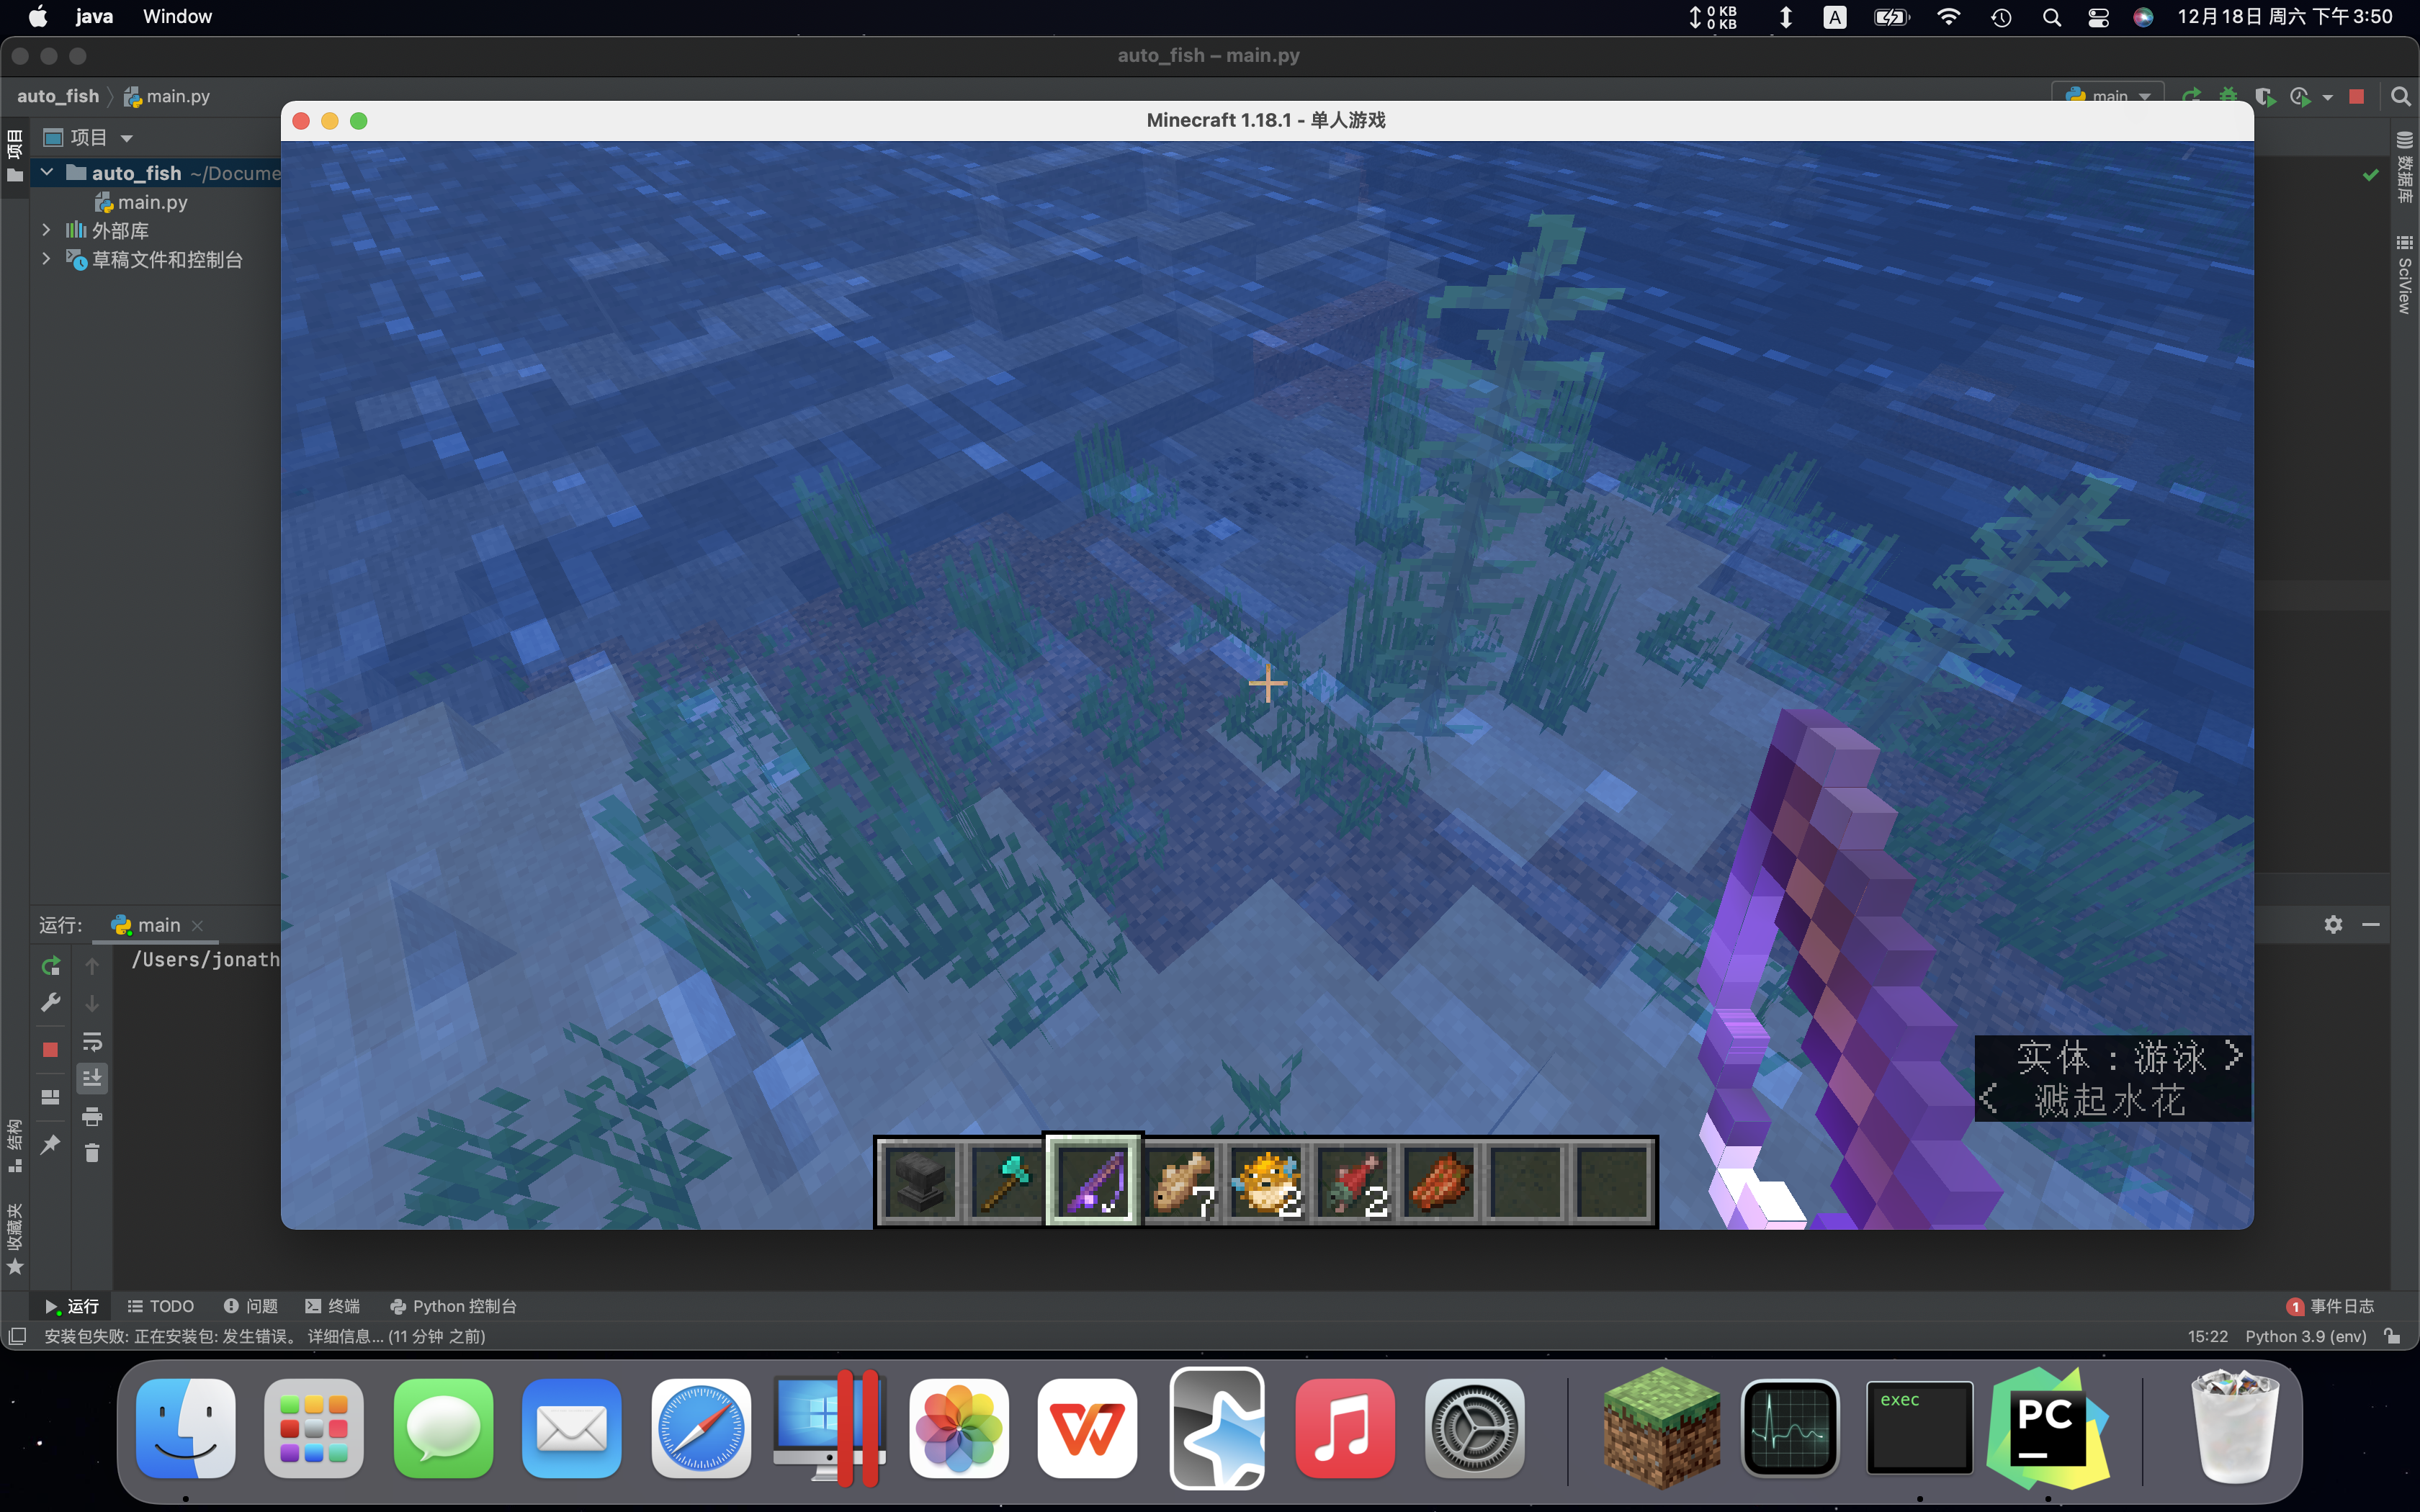inf: (1974, 1035, 2253, 1124)
